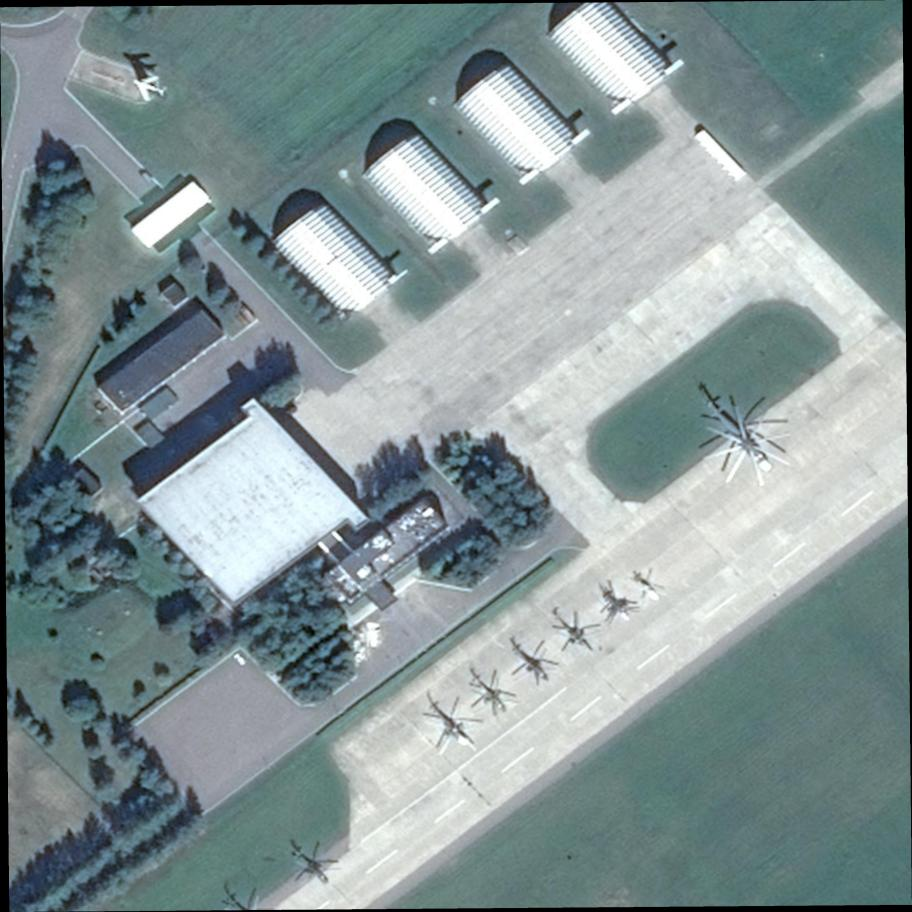plane: (124, 65, 175, 111)
